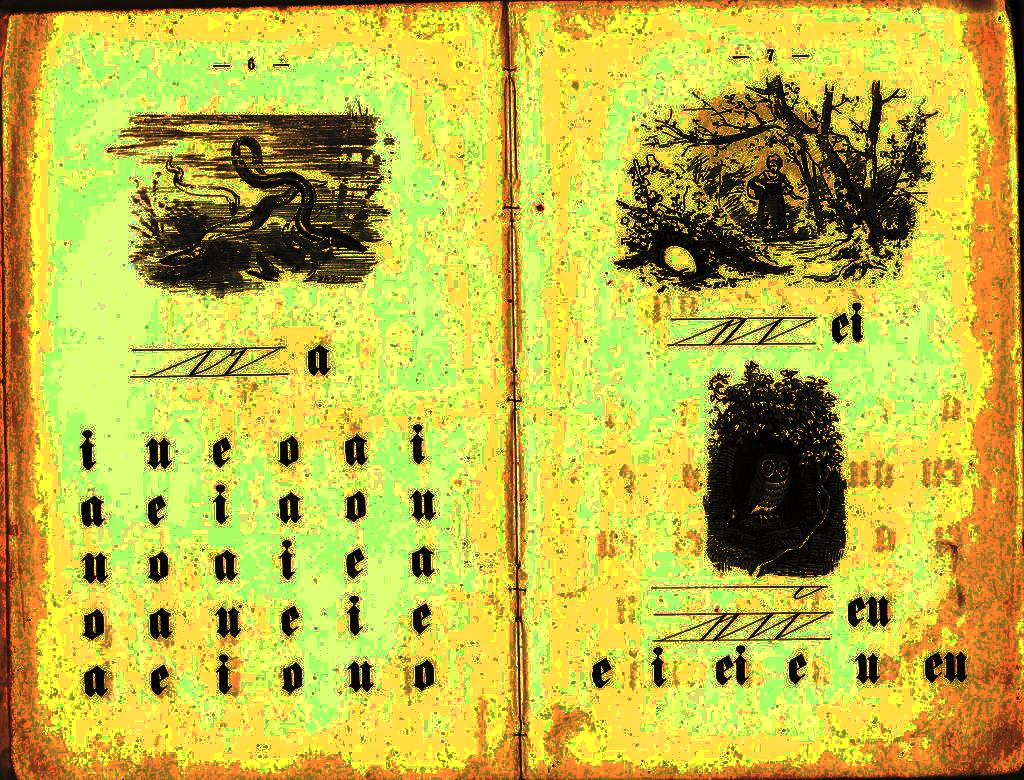Owl: (746, 454, 792, 526)
